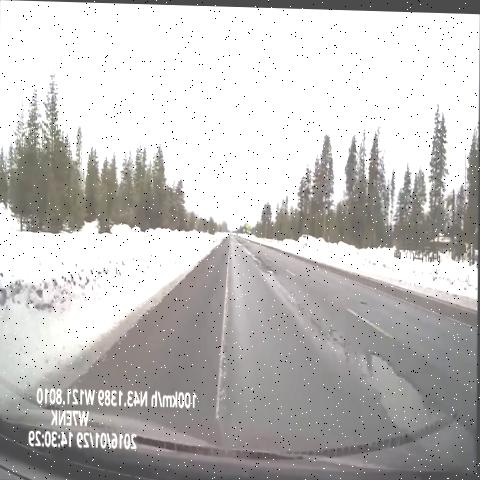pothole: (338, 336, 463, 457), (250, 244, 281, 284), (228, 228, 251, 256)
